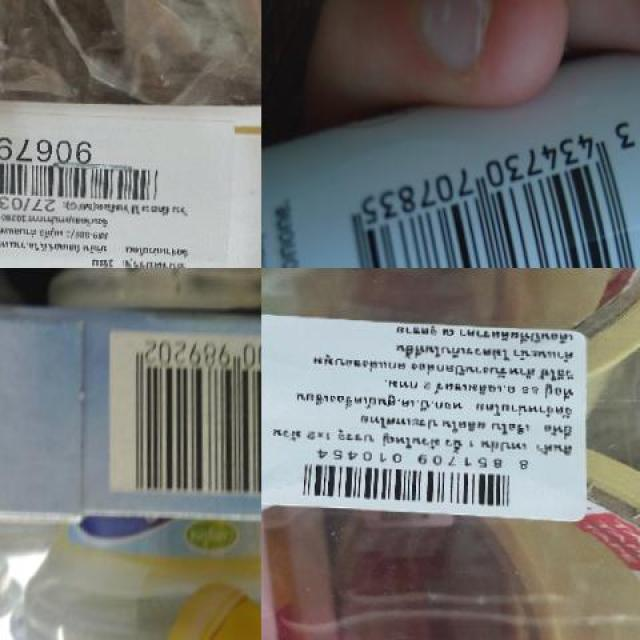Barcode: (333, 105, 640, 268), (108, 333, 261, 500), (286, 447, 530, 510), (0, 128, 171, 211)
